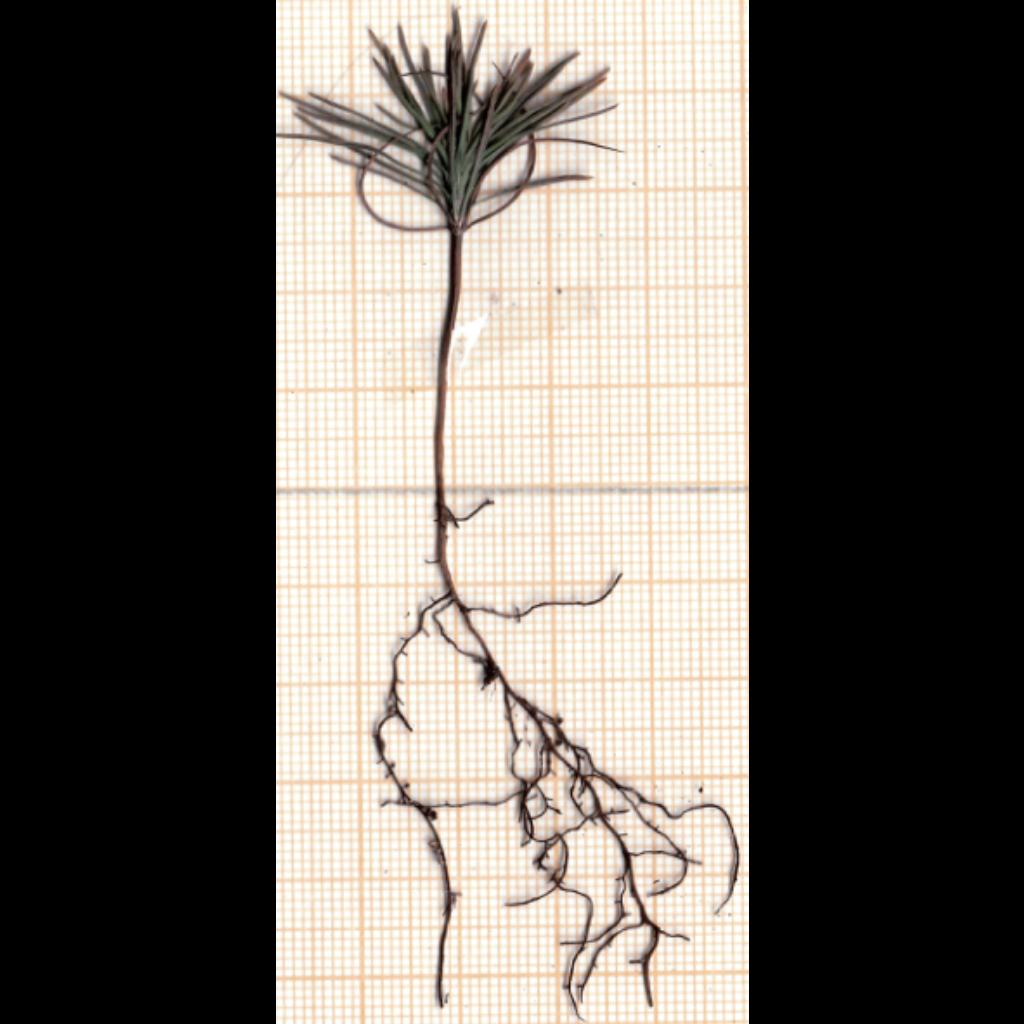flowerCedr: (278, 9, 617, 233)
rootCedr: (374, 500, 671, 1008)
stemCedr: (434, 233, 463, 507)
